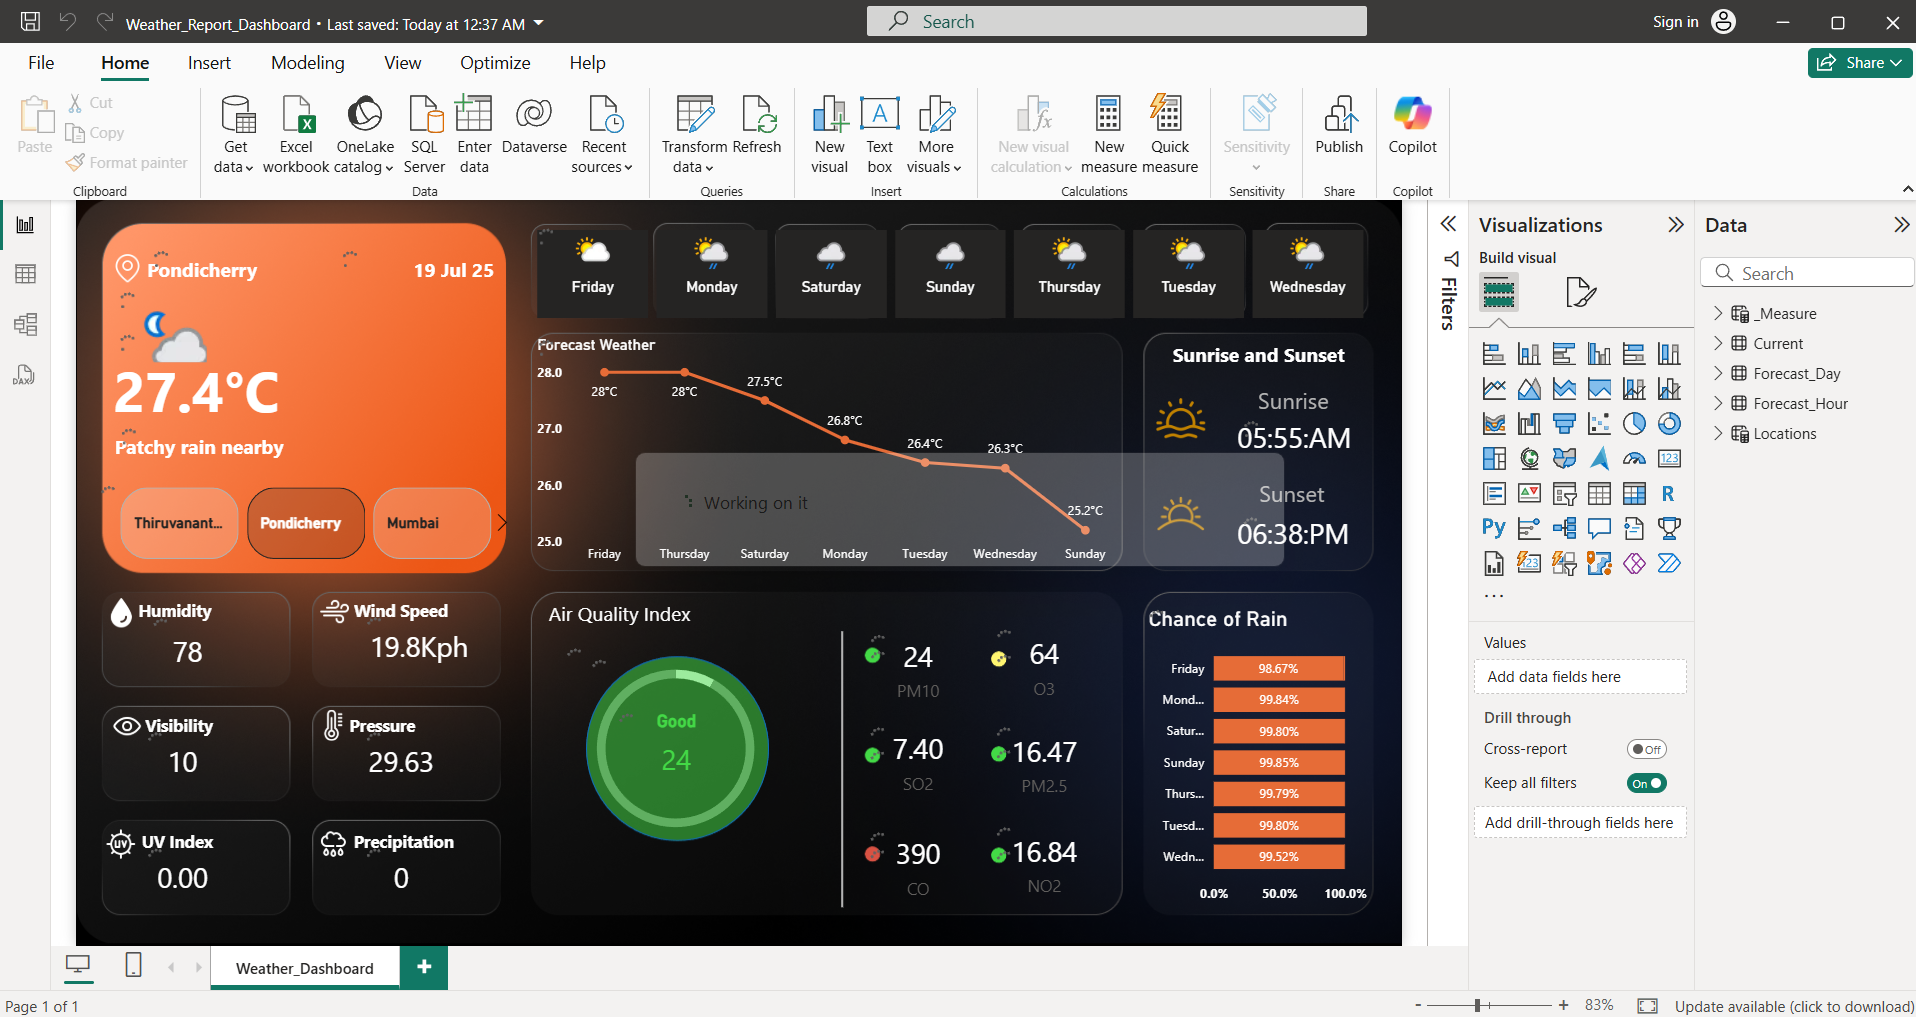

The dashboard page shown, as its layout file describes it:
{"tool":"powerbi","page":{"name":"Weather_Dashboard","canvas":[1280,720],"ordinal":0},"visuals":[{"type":"donutChart","fields":{"Y":["Sum(Current.current.air_quality.pm10)","_Measure.Left_value_PM10"]},"box":[468.3,430,221.7,200],"z":0},{"type":"shape","box":[491.7,440,176.7,178.3],"z":1000},{"type":"advancedSlicerVisual","fields":{"Values":["Locations.location.name"]},"box":[17.9,273.1,408.1,79.7],"z":2000},{"type":"shape","box":[35.8,126.8,190.2,110.6],"z":3000},{"type":"shape","box":[37,217.2,188.1,41.3],"z":4000},{"type":"shape","box":[68.3,45.5,188.6,40.6],"z":5000},{"type":"shape","box":[250.4,45.5,152.8,40.6],"z":6000},{"type":"image","box":[30.9,45.5,37.4,40.6],"z":7000},{"type":"cardVisual","fields":{"Data":["Min(Current.current.condition.icon)"]},"box":[35.8,86.2,95.9,76.4],"z":8000},{"type":"image","box":[24.4,487.7,50.4,40.6],"z":9000},{"type":"image","box":[222.7,601.5,50.4,39],"z":10000},{"type":"image","box":[17.9,601.5,50.4,39],"z":11000},{"type":"image","box":[224.4,377.2,50.4,39],"z":12000},{"type":"image","box":[19.5,378.8,48.8,39],"z":13000},{"type":"image","box":[222.7,487.7,50.4,39],"z":14000},{"type":"textbox","box":[43.9,380.4,104,37.4],"z":15000},{"type":"textbox","box":[248.7,380.4,115.4,37.4],"z":16000},{"type":"textbox","box":[50.4,491,97.5,37.4],"z":17000},{"type":"textbox","box":[250.4,491,89.4,37.4],"z":18000},{"type":"textbox","box":[48.8,603.2,99.2,37.4],"z":19000},{"type":"textbox","box":[263.4,603.2,123.6,37.4],"z":20000},{"type":"card","fields":{"Values":["Sum(Current.current.humidity)"]},"box":[68.3,400,78.3,71.7],"z":21000},{"type":"card","fields":{"Values":["_Measure.Wind_Speed"]},"box":[274.8,399.9,112.2,65],"z":22000},{"type":"card","fields":{"Values":["Sum(Current.current.pressure_in)"]},"box":[274.8,510.5,78,65],"z":23000},{"type":"card","fields":{"Values":["Sum(Current.current.vis_km)"]},"box":[63.4,510.5,78,65],"z":24000},{"type":"card","fields":{"Values":["Sum(Current.current.uv)"]},"box":[63.4,622.7,78,65],"z":25000},{"type":"card","fields":{"Values":["Sum(Current.current.precip_mm)"]},"box":[274.8,622.7,78,65],"z":26000},{"type":"advancedSlicerVisual","fields":{"Values":["Forecast_Day.Day_Name"]},"box":[440.6,24.4,811.3,95.9],"z":27000},{"type":"lineChart","title":"Forecast Weather","fields":{"Y":["Sum(Forecast_Day.forecast.forecastday.day.avgtemp_c)"],"Category":["Forecast_Day.Day_Name"]},"box":[440,131.7,570,228.3],"z":28000},{"type":"textbox","box":[1031.7,131.7,220,50],"z":29000},{"type":"shape","box":[1120.8,209.9,136.3,37.4],"z":30000},{"type":"shape","box":[1120.6,303.3,136.7,36.7],"z":31000},{"type":"textbox","box":[1120.6,173.3,108.3,53.3],"z":32000},{"type":"textbox","box":[1078.9,263.3,190,58.3],"z":33000},{"type":"image","box":[1031.7,268.3,70,70],"z":34000},{"type":"image","box":[1031.7,181.7,70,56.7],"z":35000},{"type":"textbox","box":[451.7,381.7,220,50],"z":36000},{"type":"card","fields":{"Values":["Sum(Current.current.air_quality.pm10)"]},"box":[761.7,416.7,103.3,71.7],"z":37000},{"type":"card","fields":{"Values":["Sum(Current.current.air_quality.pm2_5)"]},"box":[883.3,505,103.3,76.7],"z":38000},{"type":"card","fields":{"Values":["Sum(Current.current.air_quality.no2)"]},"box":[883.3,601.7,103.3,76.7],"z":39000},{"type":"card","fields":{"Values":["Sum(Current.current.air_quality.o3)"]},"box":[883.3,411.7,103.3,76.7],"z":40000},{"type":"card","fields":{"Values":["Sum(Current.current.air_quality.so2)"]},"box":[761.1,505,103.3,71.7],"z":41000},{"type":"card","fields":{"Values":["Sum(Current.current.air_quality.co)"]},"box":[761.1,606.7,103.3,71.7],"z":42000},{"type":"shape","box":[761.1,431.7,15,15],"z":43000},{"type":"shape","box":[761.1,623.3,15,15],"z":44000},{"type":"shape","box":[761.1,528.3,15,15],"z":45000},{"type":"shape","box":[883.3,435,15,15],"z":46000},{"type":"shape","box":[883.3,526.7,15,15],"z":47000},{"type":"shape","box":[883.3,625,15,15],"z":48000},{"type":"shape","box":[718.3,416.7,43.3,266.7],"z":49000},{"type":"card","fields":{"Values":["Sum(Current.current.air_quality.pm10)"]},"box":[518.3,491.7,121.7,78.3],"z":50000},{"type":"hundredPercentStackedBarChart","title":"Chance of Rain","fields":{"Category":["Forecast_Day.Day_Name"],"Y":["Sum(Forecast_Hour.forecast.forecastday.hour.chance_of_rain)","_Measure.Left_value_Rain"]},"box":[1030.3,392.1,220.8,295.6],"z":51000}]}

Visuals, with their boxes on the page's 1280x720 design canvas (x1, y1, x2, y2). These are canvas units, not pixel positions in the 1916x1017 screenshot, which may show the page scaled, cropped or inside an application window:
donutChart - Sum(Current.current.air_quality.pm10) x _Measure.Left_value_PM10: [x1=468, y1=430, x2=690, y2=630]
shape: [x1=492, y1=440, x2=668, y2=618]
advancedSlicerVisual - Locations.location.name: [x1=18, y1=273, x2=426, y2=353]
shape: [x1=36, y1=127, x2=226, y2=237]
shape: [x1=37, y1=217, x2=225, y2=258]
shape: [x1=68, y1=46, x2=257, y2=86]
shape: [x1=250, y1=46, x2=403, y2=86]
image: [x1=31, y1=46, x2=68, y2=86]
cardVisual - Min(Current.current.condition.icon): [x1=36, y1=86, x2=132, y2=163]
image: [x1=24, y1=488, x2=75, y2=528]
image: [x1=223, y1=602, x2=273, y2=640]
image: [x1=18, y1=602, x2=68, y2=640]
image: [x1=224, y1=377, x2=275, y2=416]
image: [x1=20, y1=379, x2=68, y2=418]
image: [x1=223, y1=488, x2=273, y2=527]
textbox: [x1=44, y1=380, x2=148, y2=418]
textbox: [x1=249, y1=380, x2=364, y2=418]
textbox: [x1=50, y1=491, x2=148, y2=528]
textbox: [x1=250, y1=491, x2=340, y2=528]
textbox: [x1=49, y1=603, x2=148, y2=641]
textbox: [x1=263, y1=603, x2=387, y2=641]
card - Sum(Current.current.humidity): [x1=68, y1=400, x2=147, y2=472]
card - _Measure.Wind_Speed: [x1=275, y1=400, x2=387, y2=465]
card - Sum(Current.current.pressure_in): [x1=275, y1=510, x2=353, y2=576]
card - Sum(Current.current.vis_km): [x1=63, y1=510, x2=141, y2=576]
card - Sum(Current.current.uv): [x1=63, y1=623, x2=141, y2=688]
card - Sum(Current.current.precip_mm): [x1=275, y1=623, x2=353, y2=688]
advancedSlicerVisual - Forecast_Day.Day_Name: [x1=441, y1=24, x2=1252, y2=120]
"Forecast Weather" lineChart: [x1=440, y1=132, x2=1010, y2=360]
textbox: [x1=1032, y1=132, x2=1252, y2=182]
shape: [x1=1121, y1=210, x2=1257, y2=247]
shape: [x1=1121, y1=303, x2=1257, y2=340]
textbox: [x1=1121, y1=173, x2=1229, y2=227]
textbox: [x1=1079, y1=263, x2=1269, y2=322]
image: [x1=1032, y1=268, x2=1102, y2=338]
image: [x1=1032, y1=182, x2=1102, y2=238]
textbox: [x1=452, y1=382, x2=672, y2=432]
card - Sum(Current.current.air_quality.pm10): [x1=762, y1=417, x2=865, y2=488]
card - Sum(Current.current.air_quality.pm2_5): [x1=883, y1=505, x2=987, y2=582]
card - Sum(Current.current.air_quality.no2): [x1=883, y1=602, x2=987, y2=678]
card - Sum(Current.current.air_quality.o3): [x1=883, y1=412, x2=987, y2=488]
card - Sum(Current.current.air_quality.so2): [x1=761, y1=505, x2=864, y2=577]
card - Sum(Current.current.air_quality.co): [x1=761, y1=607, x2=864, y2=678]
shape: [x1=761, y1=432, x2=776, y2=447]
shape: [x1=761, y1=623, x2=776, y2=638]
shape: [x1=761, y1=528, x2=776, y2=543]
shape: [x1=883, y1=435, x2=898, y2=450]
shape: [x1=883, y1=527, x2=898, y2=542]
shape: [x1=883, y1=625, x2=898, y2=640]
shape: [x1=718, y1=417, x2=762, y2=683]
card - Sum(Current.current.air_quality.pm10): [x1=518, y1=492, x2=640, y2=570]
"Chance of Rain" hundredPercentStackedBarChart: [x1=1030, y1=392, x2=1251, y2=688]
